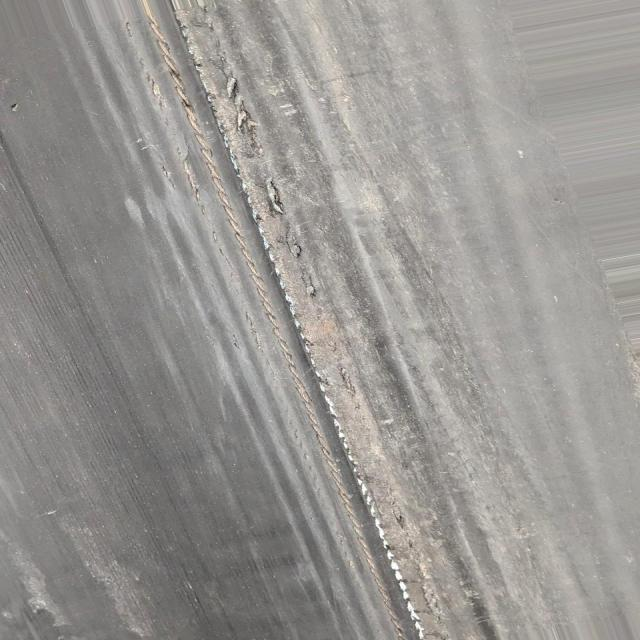Wear: (120, 0, 468, 640)
